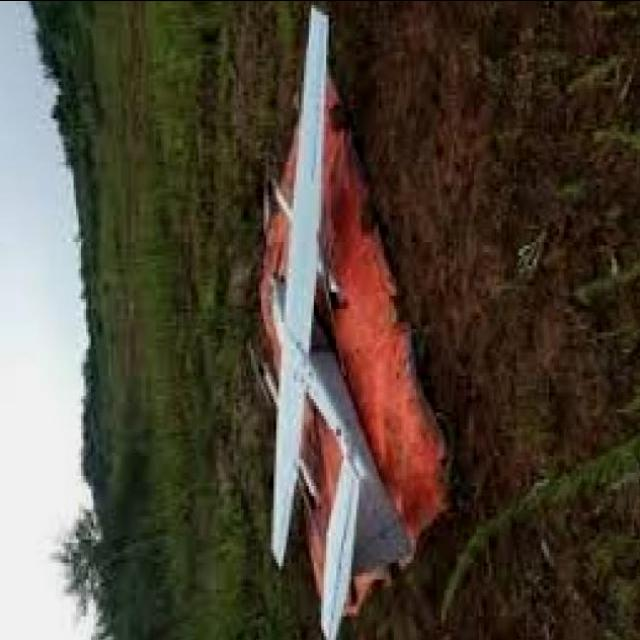plane: (248, 2, 460, 640)
